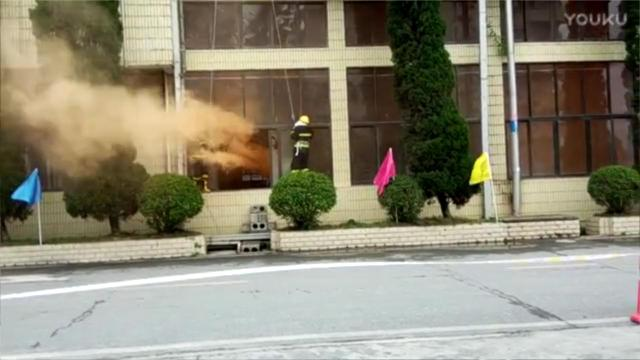smoke: (32, 81, 112, 167), (182, 94, 260, 170), (116, 86, 174, 156)
